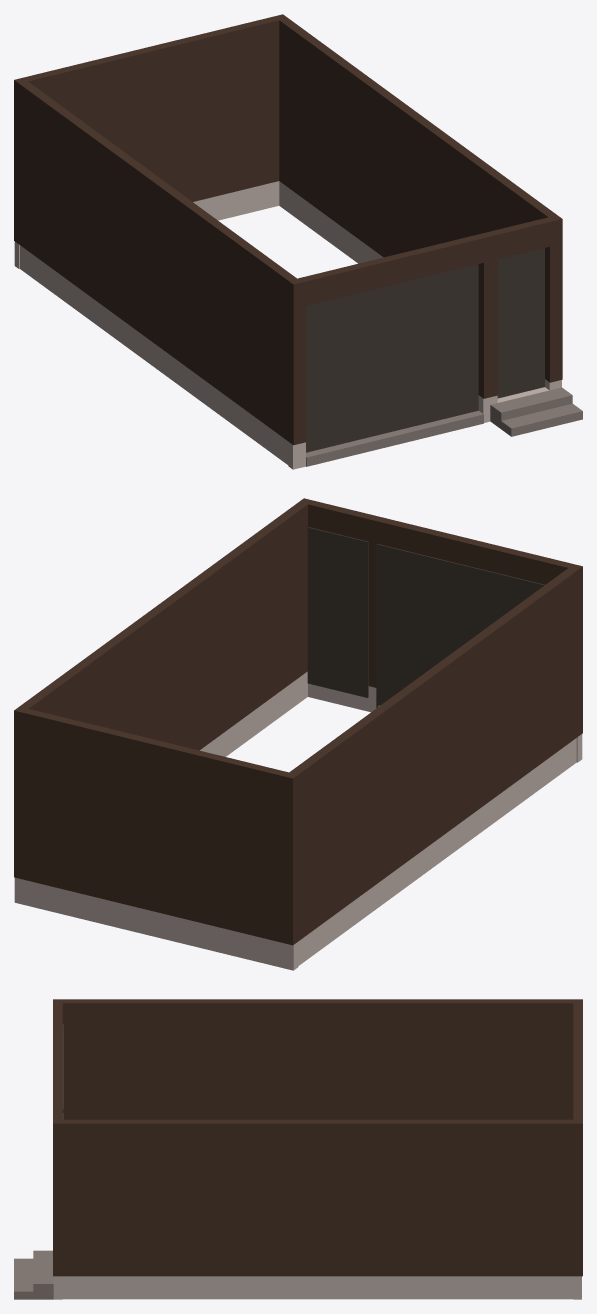
Rendered from SM_Floor_ShopGround_455_DoorR_Wood_01.gltf.
The picture shows the model from 3 angles, top to bottom: view 1: azimuth 30°, elevation 25°; view 2: azimuth 150°, elevation 25°; view 3: azimuth 270°, elevation 25°; orthographic projection. The views are drawn at different scales.
Visible parts, largest first — view 1: SM_Floor_ShopGround_455_DoorR_Wood_01; view 2: SM_Floor_ShopGround_455_DoorR_Wood_01; view 3: SM_Floor_ShopGround_455_DoorR_Wood_01.
Boxes of the visible parts, bbox=[...] form: SM_Floor_ShopGround_455_DoorR_Wood_01: bbox=[14, 14, 582, 469]; SM_Floor_ShopGround_455_DoorR_Wood_01: bbox=[14, 498, 582, 970]; SM_Floor_ShopGround_455_DoorR_Wood_01: bbox=[14, 999, 582, 1299].
Bounding box in the file's own units: 4.55 × 3 × 8.79.
Materials: 1 (1 with a texture image).
